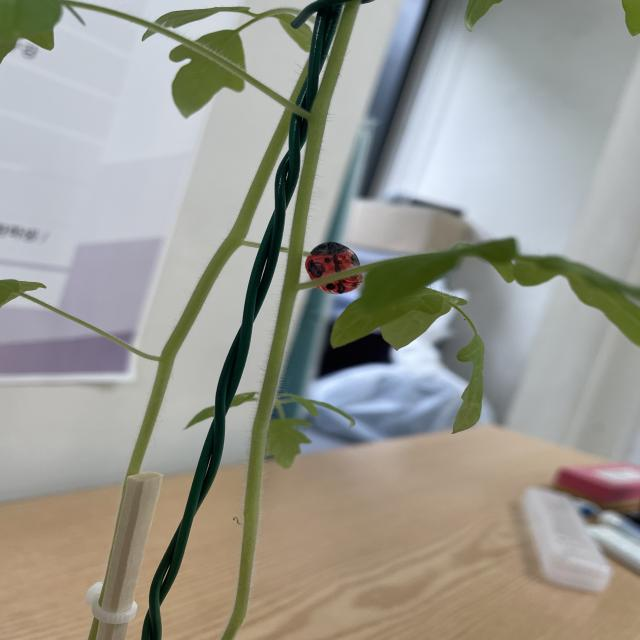bug: (290, 228, 386, 306)
